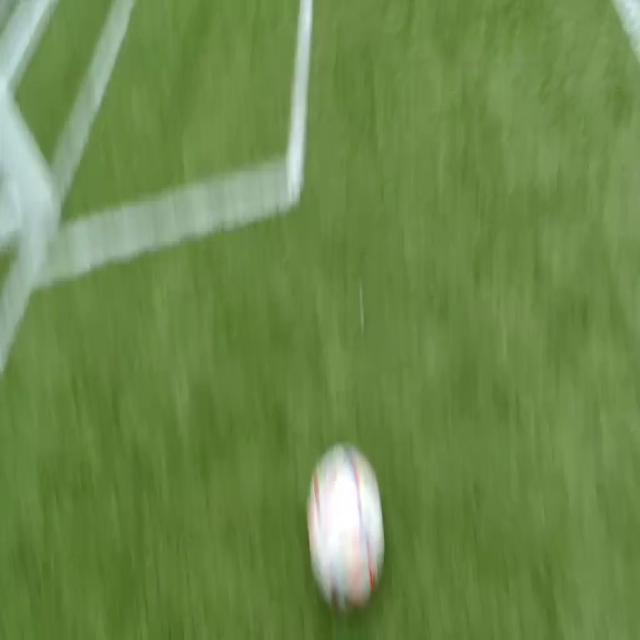ball: (308, 441, 384, 610)
